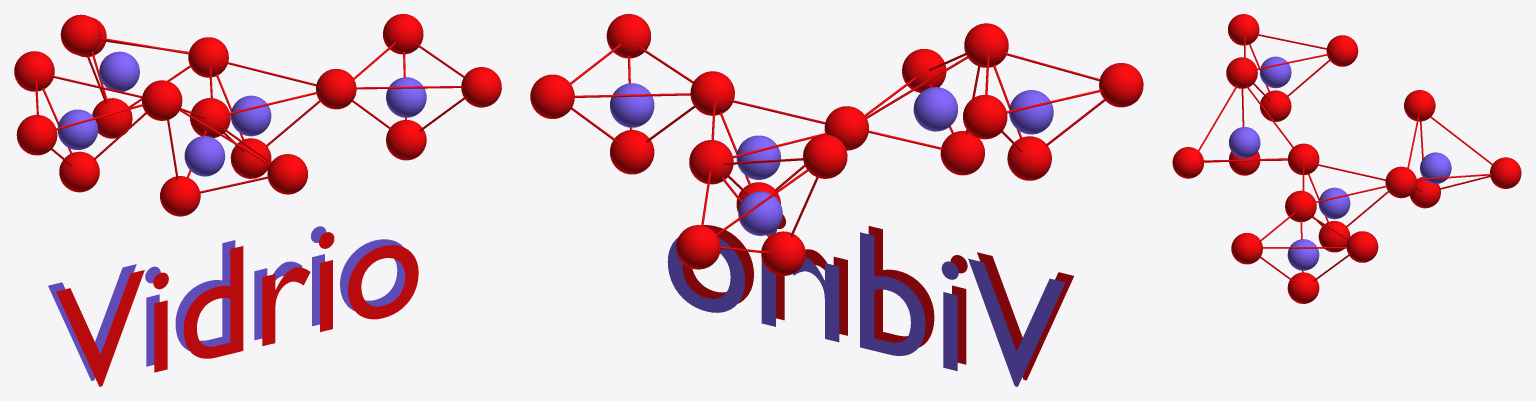
Rendered from vidrio.glb.
3 views of the same model, side by side, from view 1: azimuth 30°, elevation 25°; view 2: azimuth 150°, elevation 25°; view 3: azimuth 270°, elevation 25° (orthographic). The views are drawn at different scales.
Parts seen in each view (by area): view 1: Text.014, Text.013, Sphere.665, Sphere.673, Sphere.660, Sphere.668, Sphere.669, Sphere.676, Sphere.674, Sphere.671, Sphere.662, Sphere.664 (+10 smaller); view 2: Text.013, Text.014, Sphere.675, Sphere.667, Sphere.674, Sphere.676, Sphere.663, Sphere.668, Sphere.662, Sphere.659, Sphere.664, Sphere.671 (+10 smaller); view 3: Sphere.663, Sphere.665, Sphere.673, Sphere.674, Sphere.675, Sphere.658, Sphere.667, Sphere.662, Sphere.676, Sphere.669, Sphere.672, Sphere.668 (+9 smaller).
Part boxes in pixels (x1=…): Text.014: x1=56, y1=232, x2=418, y2=386; Text.013: x1=48, y1=226, x2=405, y2=380; Sphere.665: x1=461, y1=67, x2=501, y2=107; Sphere.673: x1=267, y1=154, x2=307, y2=194; Sphere.660: x1=316, y1=69, x2=356, y2=109; Sphere.668: x1=16, y1=115, x2=57, y2=155; Sphere.669: x1=141, y1=80, x2=182, y2=120; Sphere.676: x1=60, y1=14, x2=101, y2=55; Sphere.674: x1=184, y1=136, x2=225, y2=176; Sphere.671: x1=160, y1=176, x2=200, y2=216; Sphere.662: x1=386, y1=120, x2=426, y2=160; Sphere.664: x1=59, y1=151, x2=99, y2=192; Text.013: x1=667, y1=228, x2=1065, y2=386; Text.014: x1=682, y1=214, x2=1073, y2=380; Sphere.675: x1=676, y1=225, x2=720, y2=269; Sphere.667: x1=963, y1=94, x2=1007, y2=139; Sphere.674: x1=913, y1=87, x2=957, y2=131; Sphere.676: x1=803, y1=134, x2=847, y2=178; Sphere.663: x1=530, y1=74, x2=574, y2=118; Sphere.668: x1=1099, y1=63, x2=1143, y2=107; Sphere.662: x1=610, y1=130, x2=654, y2=174; Sphere.659: x1=761, y1=231, x2=805, y2=275; Sphere.664: x1=1007, y1=136, x2=1051, y2=180; Sphere.671: x1=940, y1=131, x2=984, y2=175; Sphere.663: x1=1346, y1=231, x2=1378, y2=262; Sphere.665: x1=1231, y1=233, x2=1262, y2=264; Sphere.673: x1=1172, y1=147, x2=1203, y2=178; Sphere.674: x1=1229, y1=127, x2=1260, y2=158; Sphere.675: x1=1490, y1=157, x2=1521, y2=188; Sphere.658: x1=1385, y1=166, x2=1416, y2=198; Sphere.667: x1=1326, y1=35, x2=1358, y2=66; Sphere.662: x1=1287, y1=272, x2=1319, y2=303; Sphere.676: x1=1404, y1=90, x2=1435, y2=121; Sphere.669: x1=1226, y1=57, x2=1257, y2=88; Sphere.672: x1=1287, y1=143, x2=1319, y2=174; Sphere.668: x1=1228, y1=14, x2=1259, y2=45.
Bounding box in the file's own units: 17.88 × 10.73 × 14.39.
